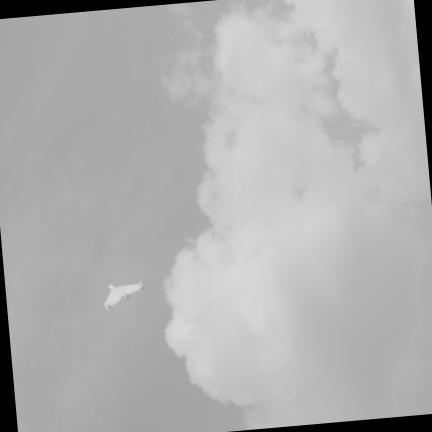Shahed: (104, 280, 144, 309)
